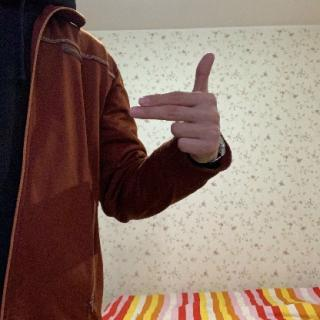GHAYN: (128, 50, 227, 167)
